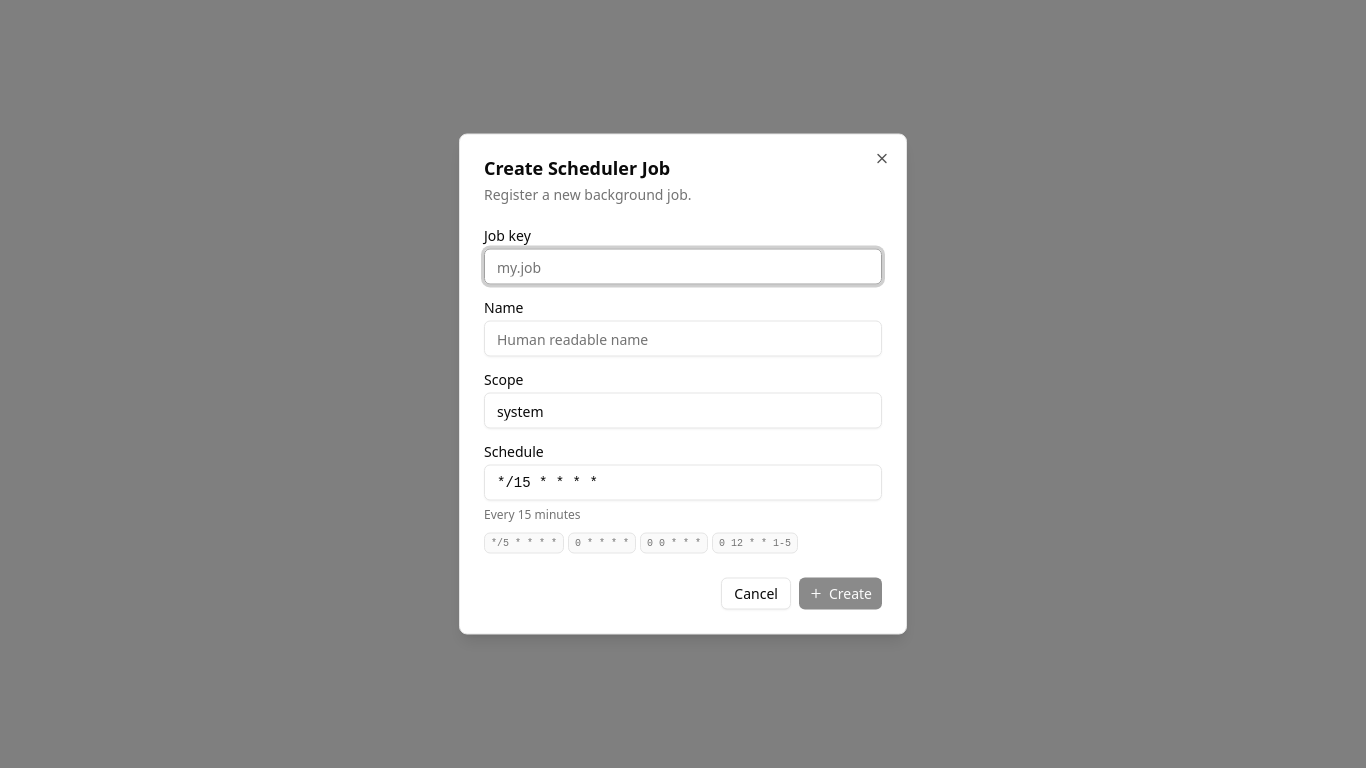
Scenario: SchedulerJobCreateDialog › surfaces submit failure and keeps the dialog open
Type "new.job" into the field labelled "Job key" at (683,266), box [484,248,882,284]
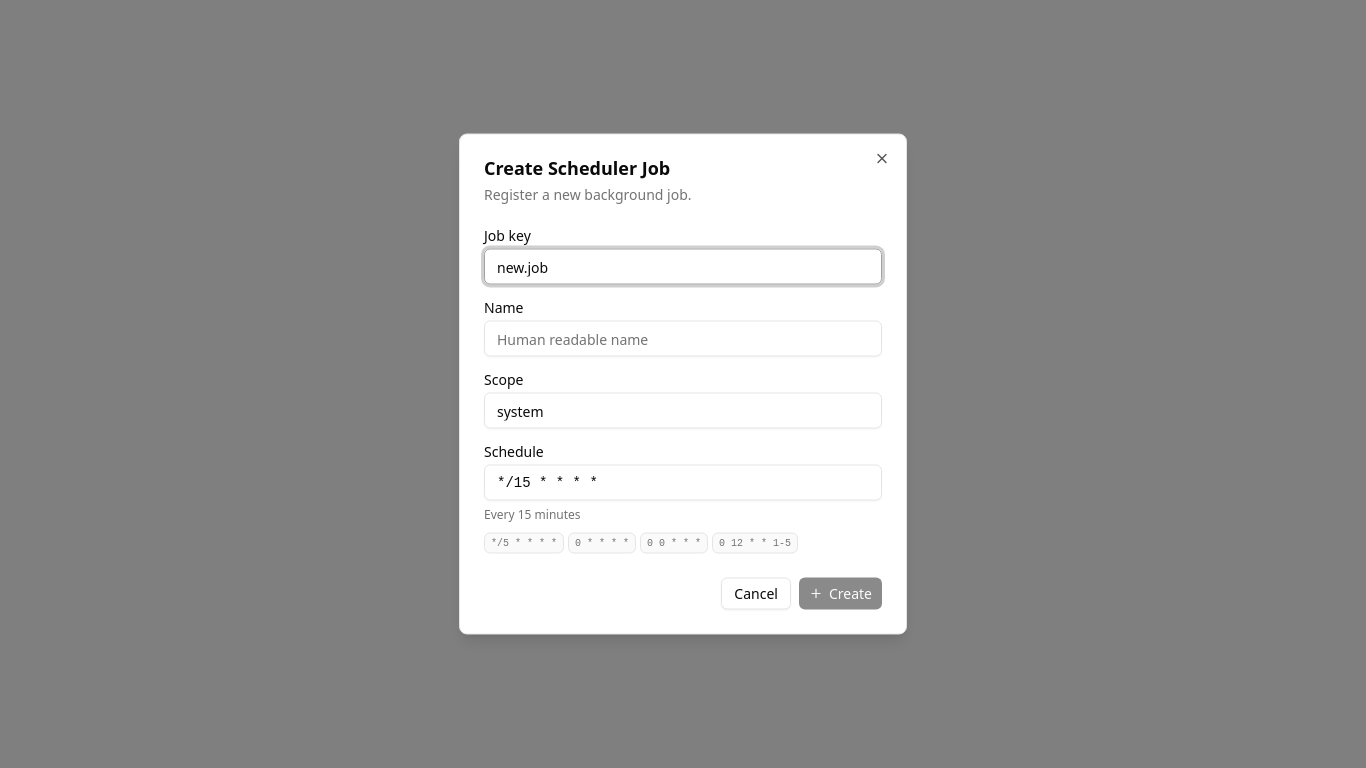
Type "New Job" into the field labelled "Name" at (683,338), box [484,320,882,356]
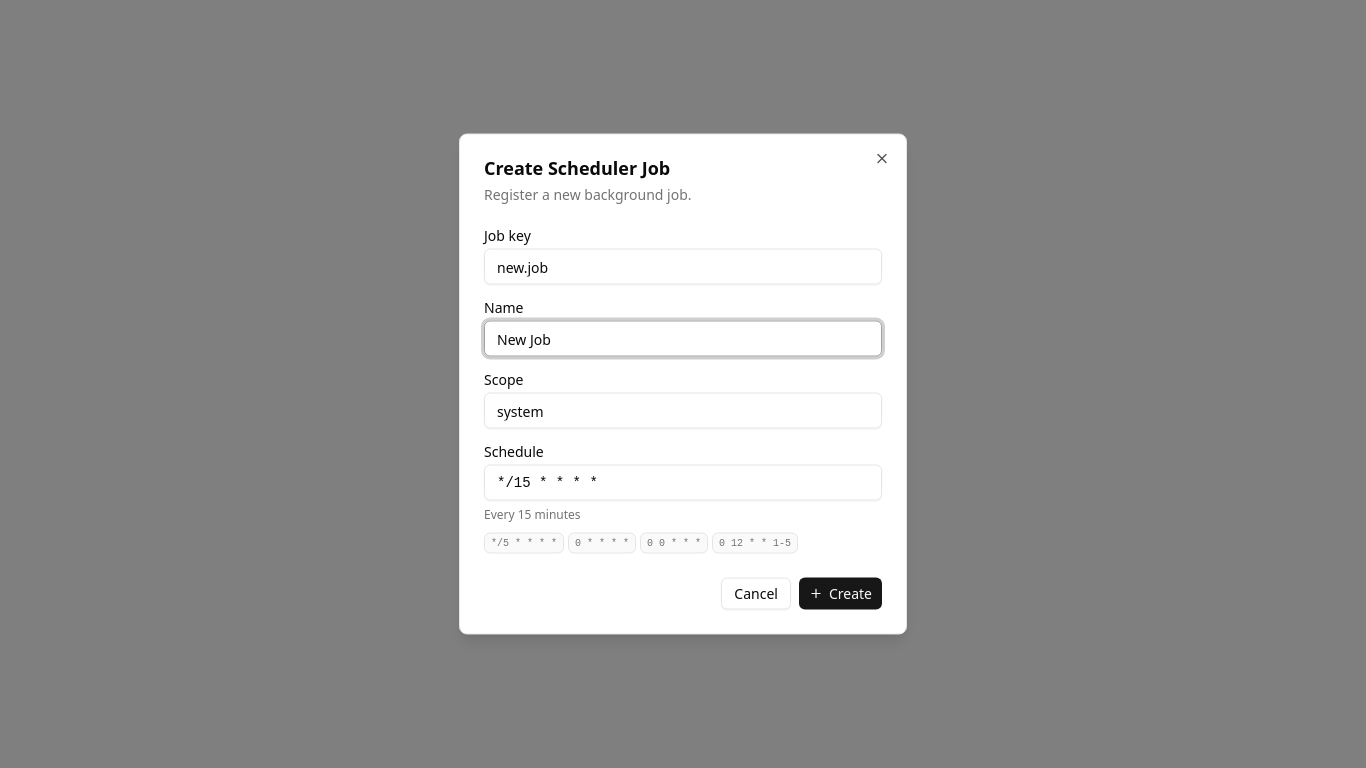
Click the button "Create" at (840,594), box [799,578,882,610]
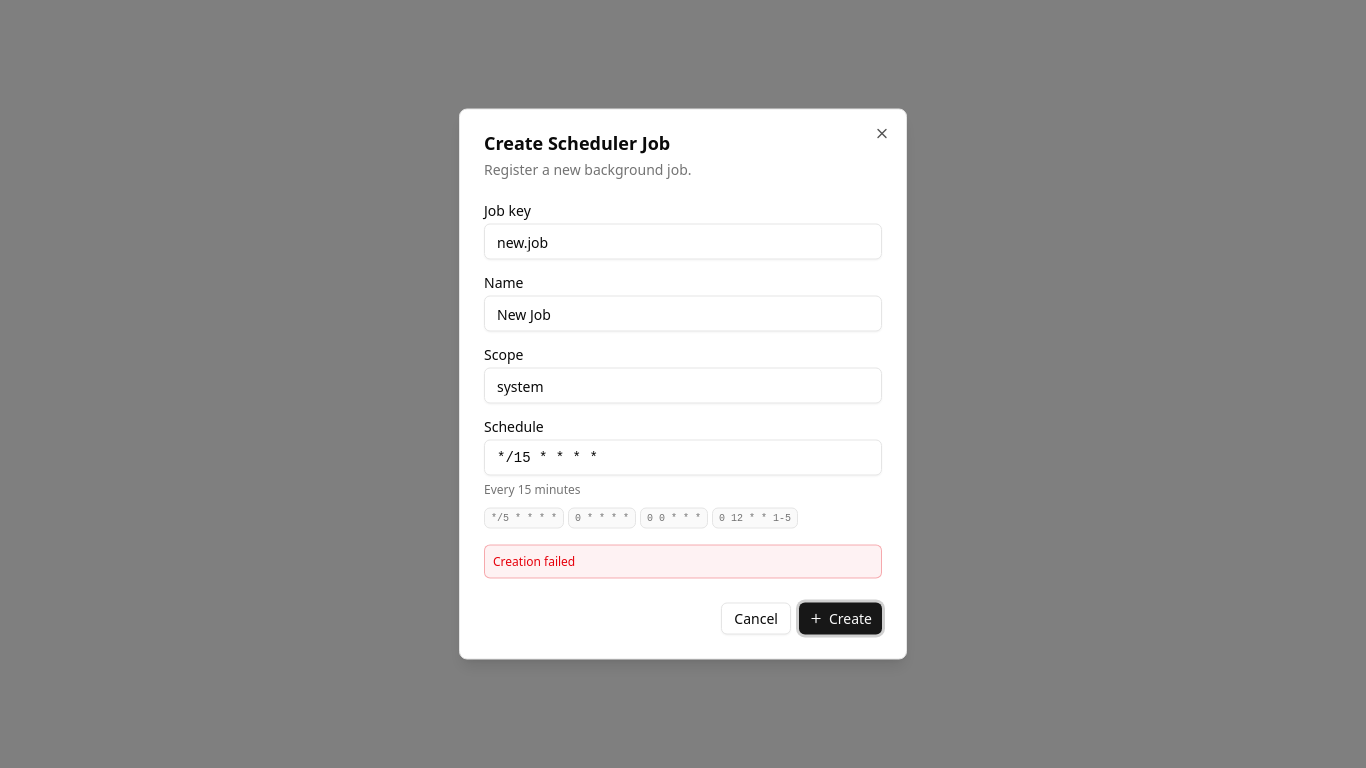
Expected: the text "Creation failed" is shown, [484,544,882,578]
